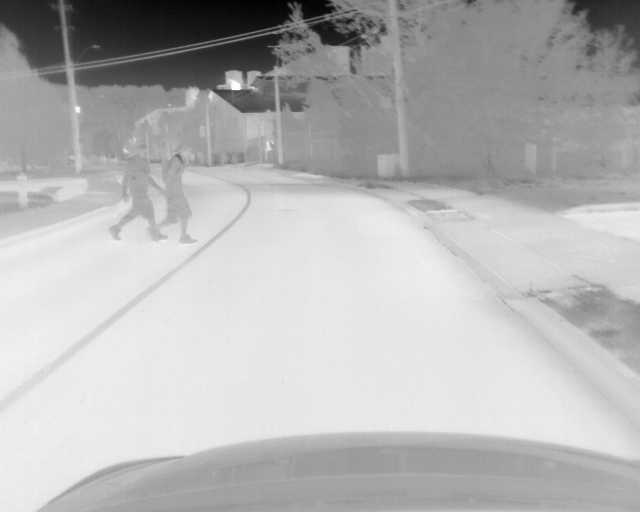people: (110, 143, 168, 243), (155, 147, 195, 244)
